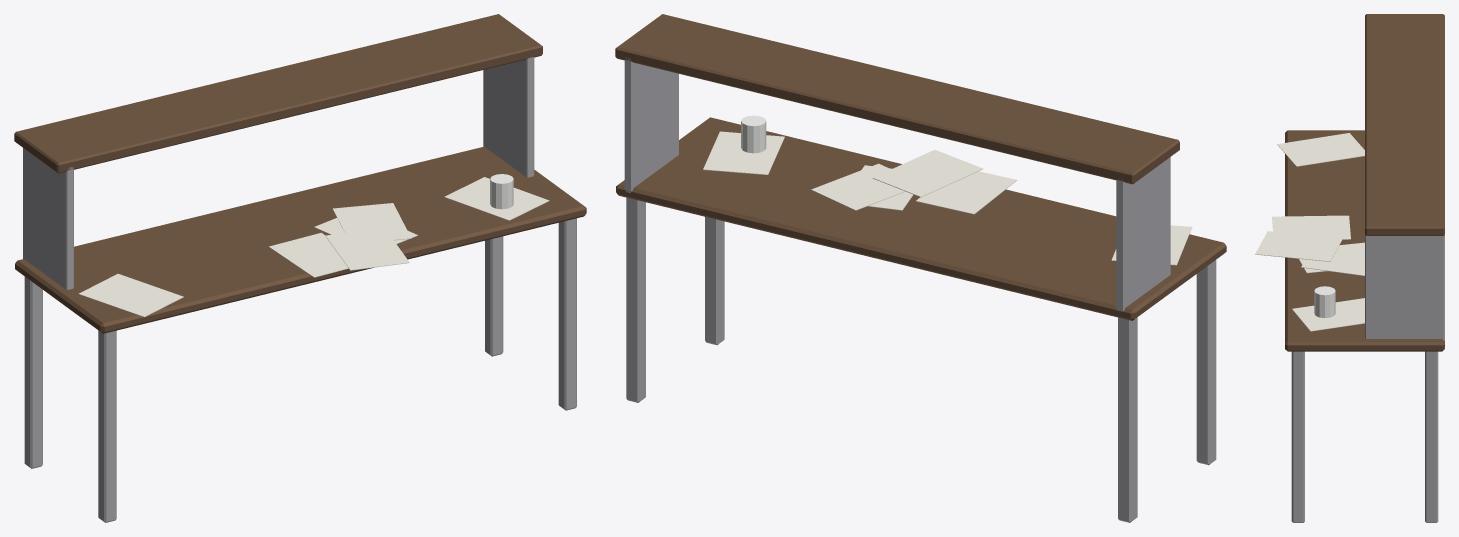
File: secret_desk.fbx
3 renders of one model, left to right at view 1: azimuth 30°, elevation 25°; view 2: azimuth 150°, elevation 25°; view 3: azimuth 270°, elevation 25°, orthographic. The views are drawn at different scales.
Visible parts, largest first — view 1: Desk; view 2: Desk; view 3: Desk.
Boxes of the visible parts, x1,y1,x2,y2 form: Desk: [14, 14, 586, 522]; Desk: [615, 14, 1226, 522]; Desk: [1255, 14, 1444, 522].
Size of the model in its own units: 1.9 by 1.24 by 0.7123.
